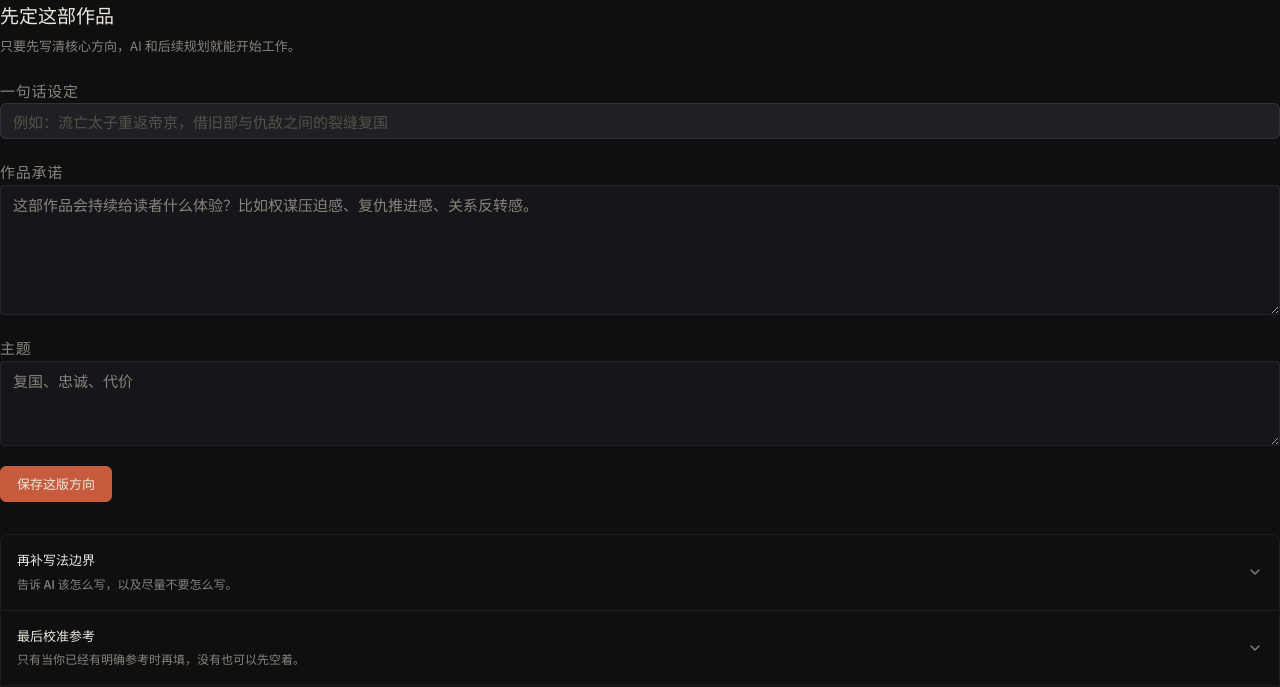
Test case: ProjectCharterForm › keeps unsaved values when accordion sections are toggled
Click the button "再补写法边界 告诉 AI 该怎么写，以及尽量不要怎么写。": (56, 560) [1, 535, 1279, 610]
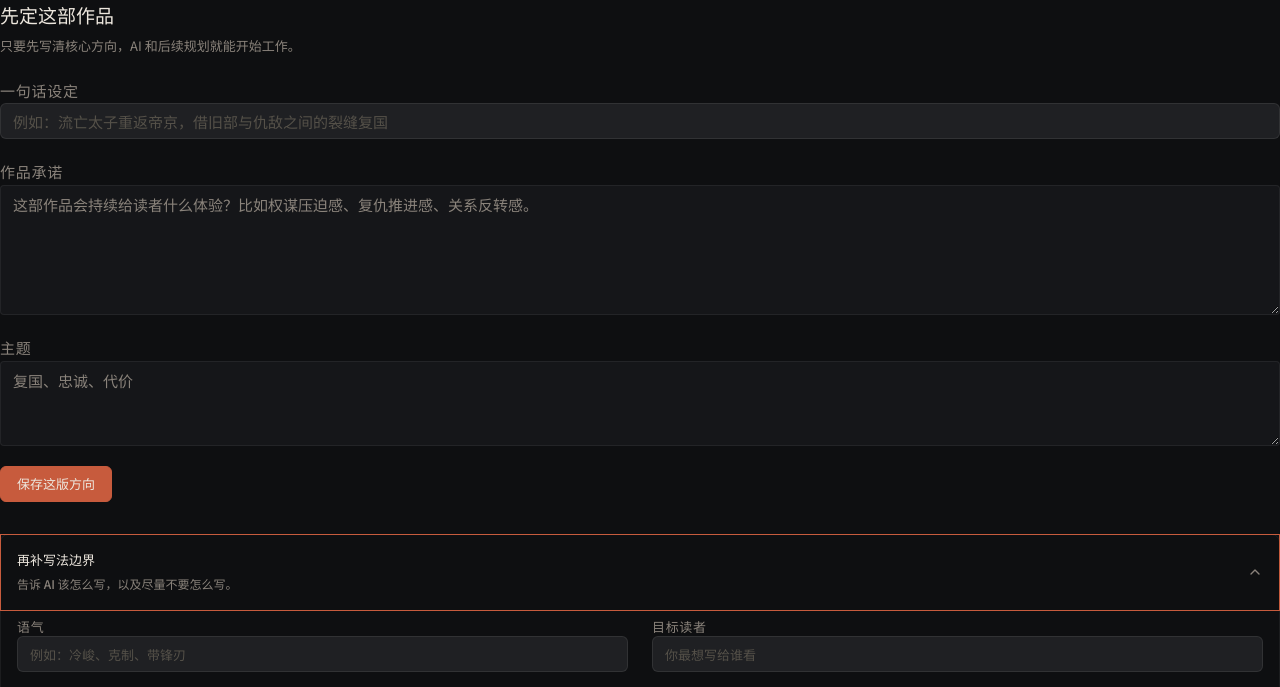
In the field labelled "语气": (322, 654) [17, 636, 628, 672], type "冷峻克制"
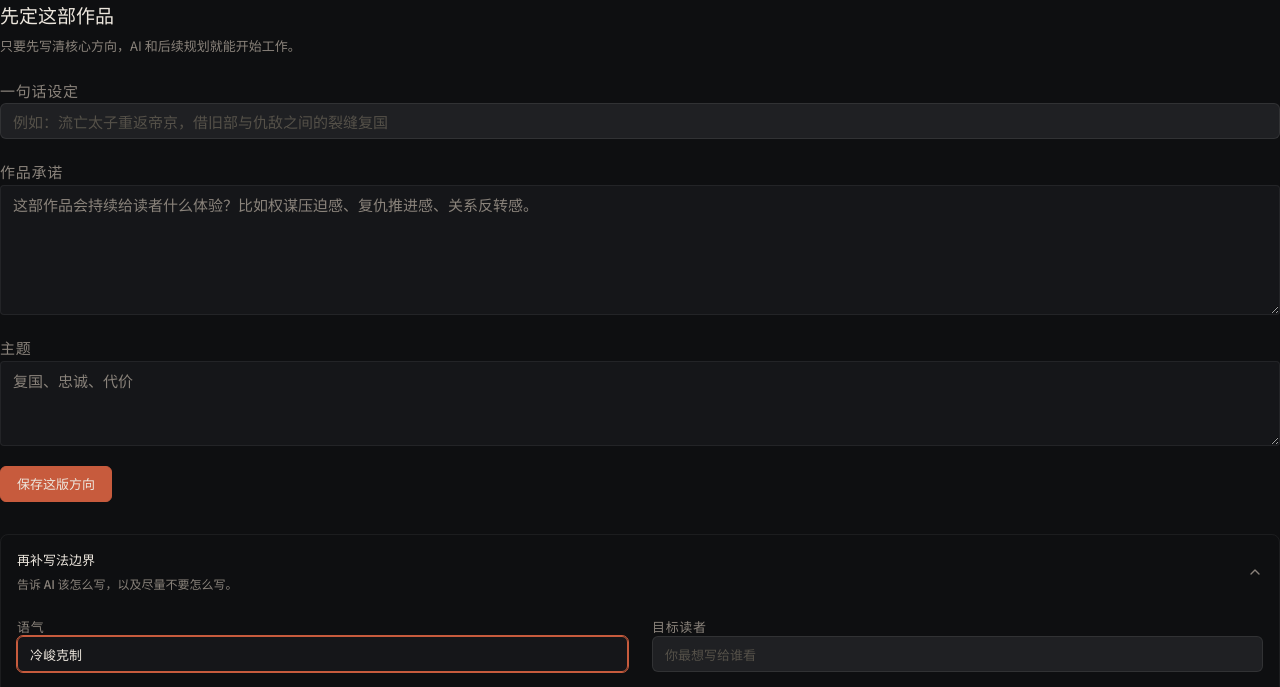
Click the button "再补写法边界 告诉 AI 该怎么写，以及尽量不要怎么写。": (56, 560) [1, 535, 1279, 610]
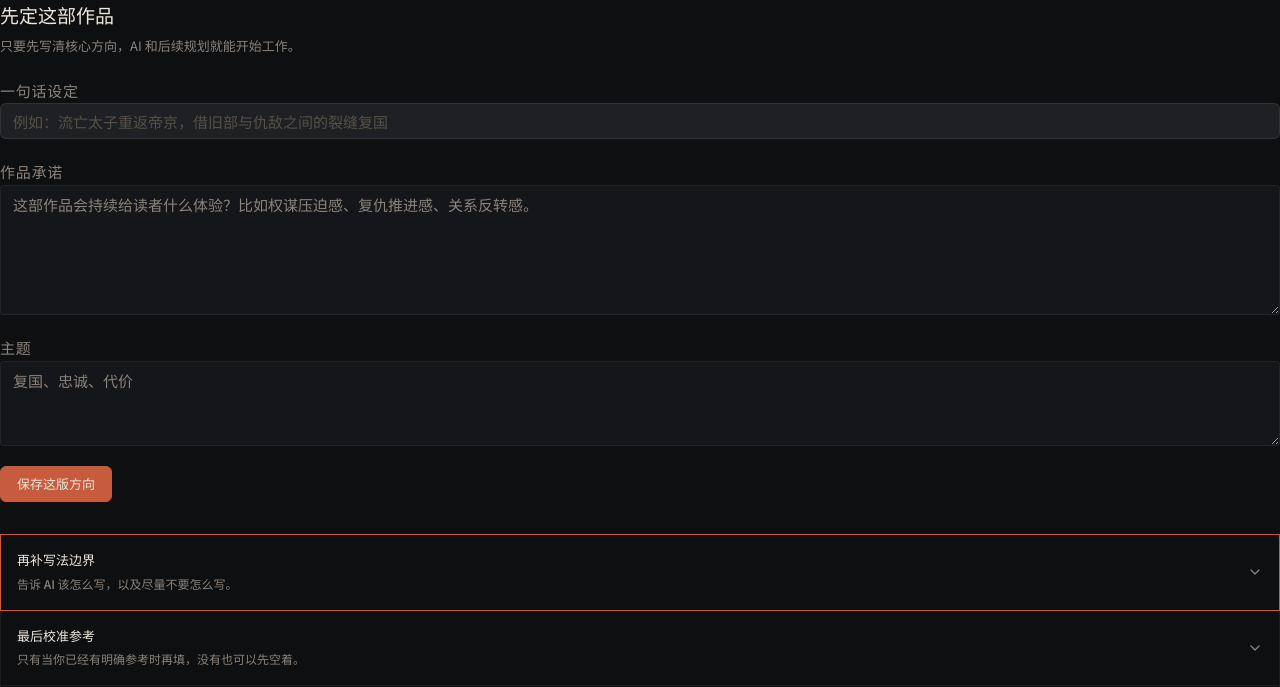
Click the button "再补写法边界 告诉 AI 该怎么写，以及尽量不要怎么写。": (56, 560) [1, 535, 1279, 610]
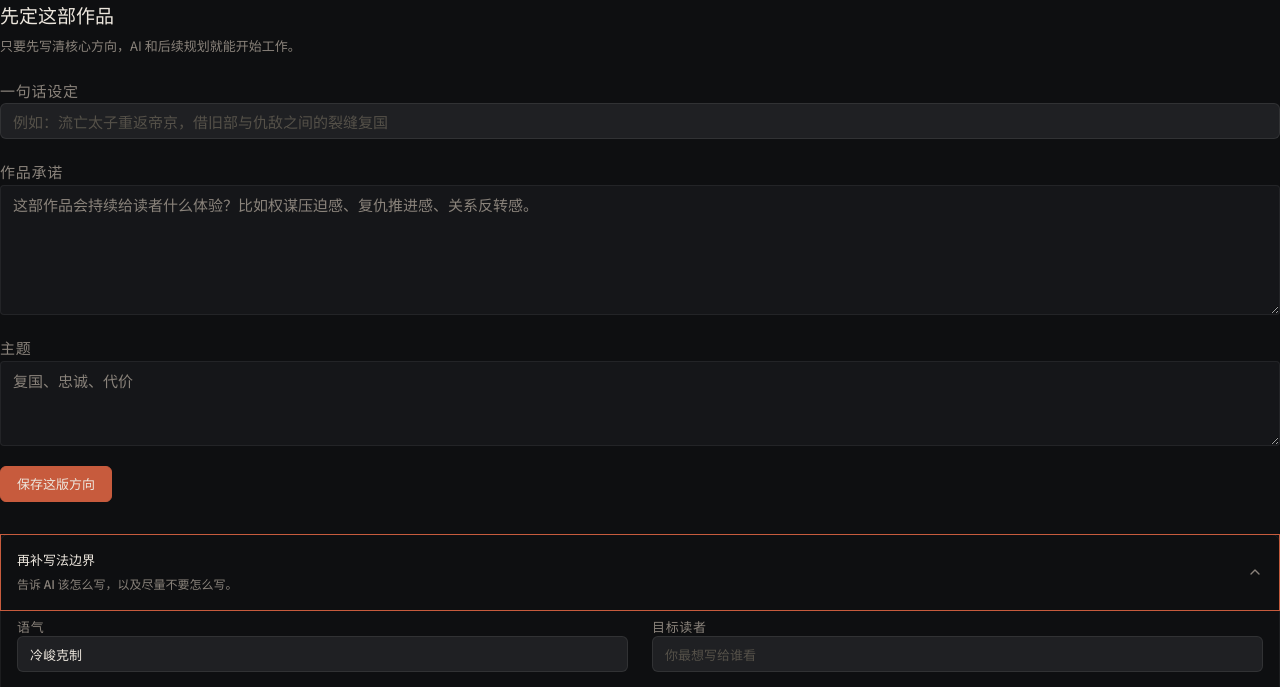
Now the field labelled "语气" holds "冷峻克制", box [17, 636, 628, 672]
